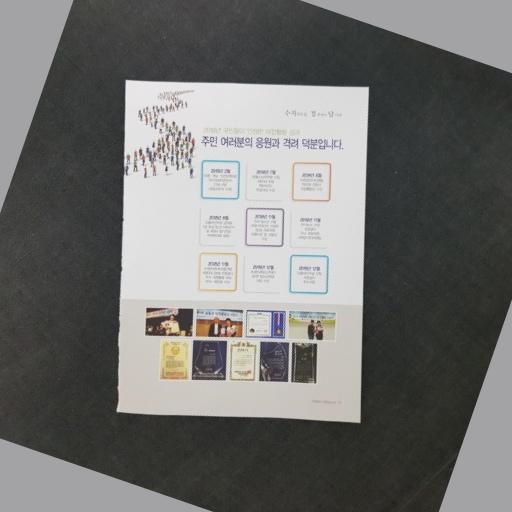Paper_2: (104, 65, 379, 448)
